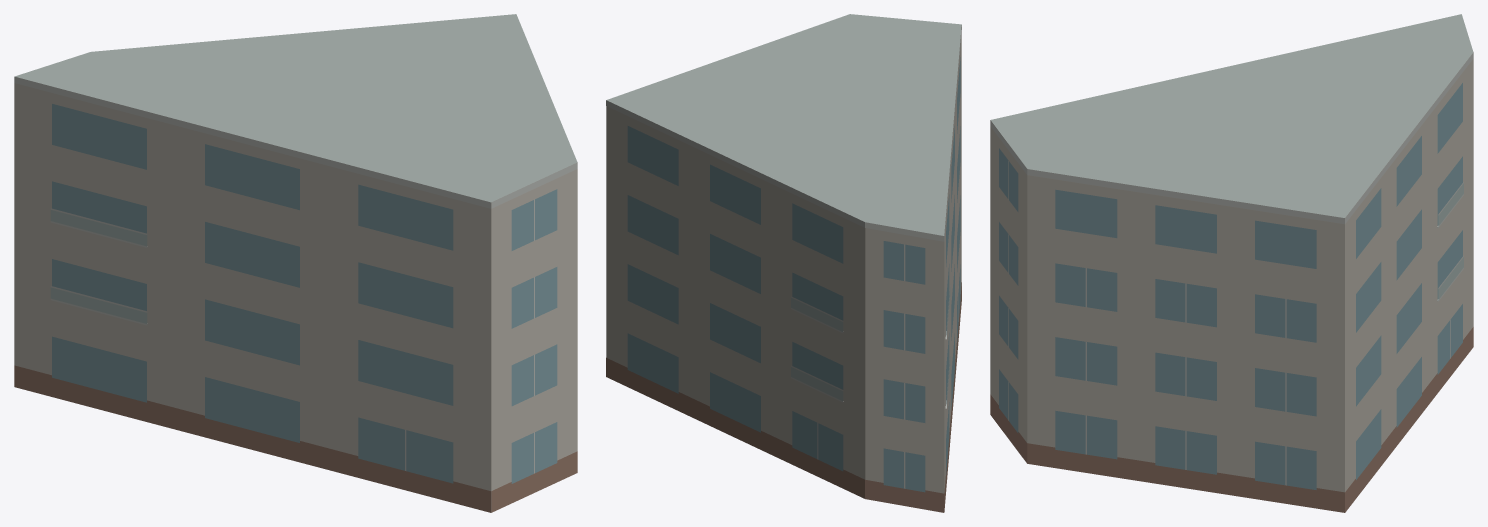
Rendered from survey-upis-32875574.glb.
3 renders of one model, left to right at view 1: azimuth 30°, elevation 25°; view 2: azimuth 150°, elevation 25°; view 3: azimuth 270°, elevation 25°, orthographic. The views are drawn at different scales.
Visible parts, largest first — view 1: survey-upis-32875574.tmp; view 2: survey-upis-32875574.tmp; view 3: survey-upis-32875574.tmp.
Part boxes in pixels (left/top/right/bottom): survey-upis-32875574.tmp: left=14, top=14, right=577, bottom=512; survey-upis-32875574.tmp: left=606, top=14, right=961, bottom=512; survey-upis-32875574.tmp: left=990, top=14, right=1473, bottom=512.
Size of the model in its own units: 17.39 by 11.7 by 17.39.
